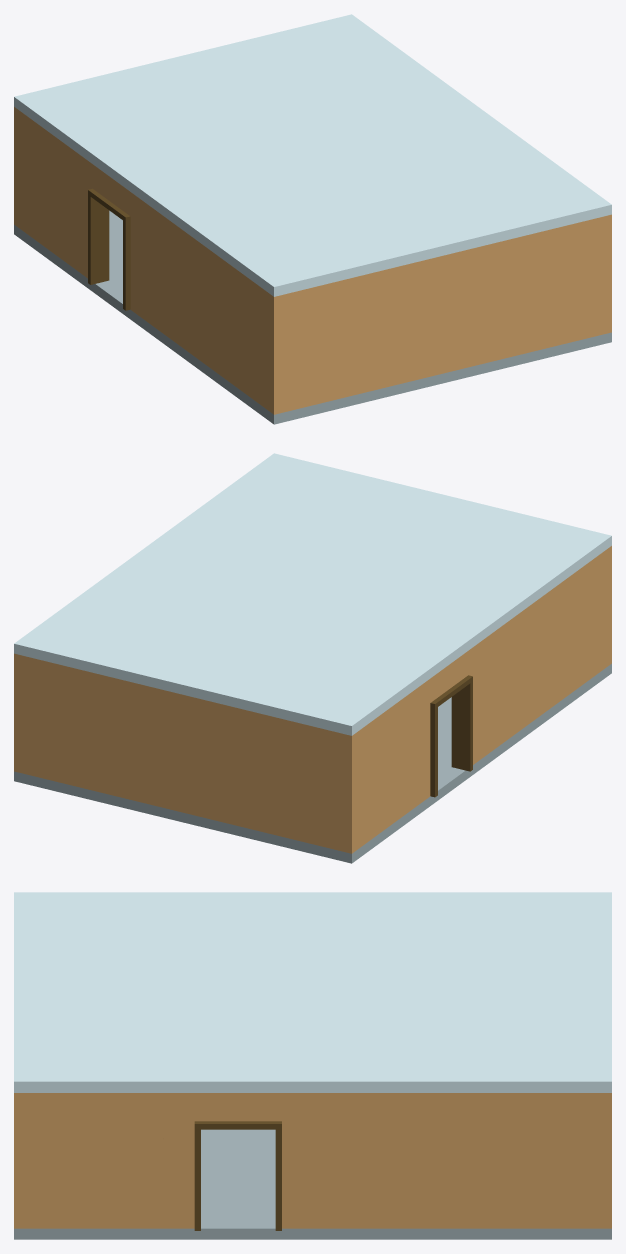
File: room4x3.fbx
The picture shows the model from 3 angles, top to bottom: view 1: azimuth 30°, elevation 25°; view 2: azimuth 150°, elevation 25°; view 3: azimuth 270°, elevation 25°; orthographic projection. The views are drawn at different scales.
Parts seen in each view (by area): view 1: roof.008, wall.023, wall.021, floor.010, wall.025, wall.019, frame.007, wall.026, wall.024; view 2: roof.008, wall.024, wall.021, wall.025, floor.010, wall.019, frame.007, wall.022; view 3: roof.008, wall.022, wall.026, floor.010, wall.020, frame.008, wall.023.
Part boxes in pixels (x1,y1,x2,y2): roof.008: [14, 14, 611, 296]; wall.023: [268, 217, 602, 414]; wall.021: [144, 202, 283, 414]; floor.010: [14, 210, 611, 424]; wall.025: [19, 111, 78, 271]; wall.019: [79, 154, 143, 319]; frame.007: [88, 188, 130, 310]; wall.026: [602, 214, 611, 334]; wall.024: [14, 107, 19, 227]; roof.008: [14, 453, 611, 735]; wall.024: [23, 656, 357, 853]; wall.021: [482, 546, 611, 758]; wall.025: [342, 688, 416, 853]; floor.010: [14, 663, 611, 863]; wall.019: [417, 641, 481, 805]; frame.007: [430, 675, 472, 797]; wall.022: [14, 653, 23, 773]; roof.008: [14, 892, 611, 1092]; wall.022: [313, 1093, 611, 1228]; wall.026: [14, 1093, 163, 1228]; floor.010: [14, 1129, 611, 1239]; wall.020: [163, 1093, 312, 1228]; frame.008: [194, 1121, 281, 1230]; wall.023: [14, 1093, 26, 1228].
Size of the model in its own units: 925 by 350 by 1200.
